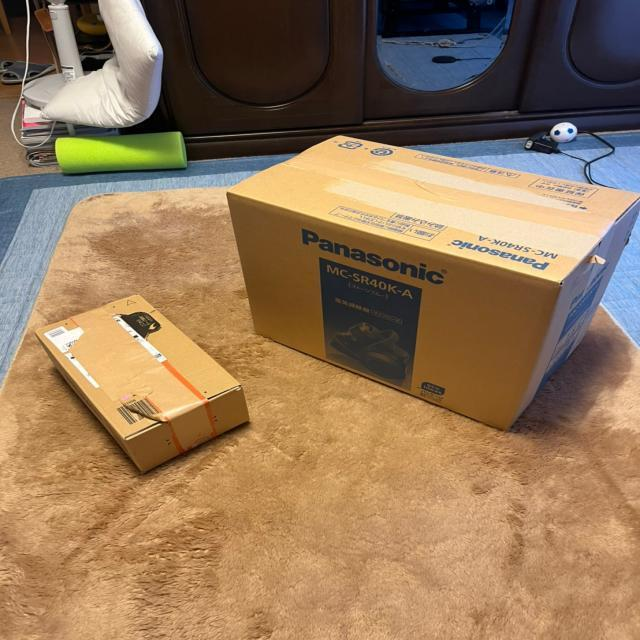box: (223, 129, 640, 435), (29, 290, 257, 487)
